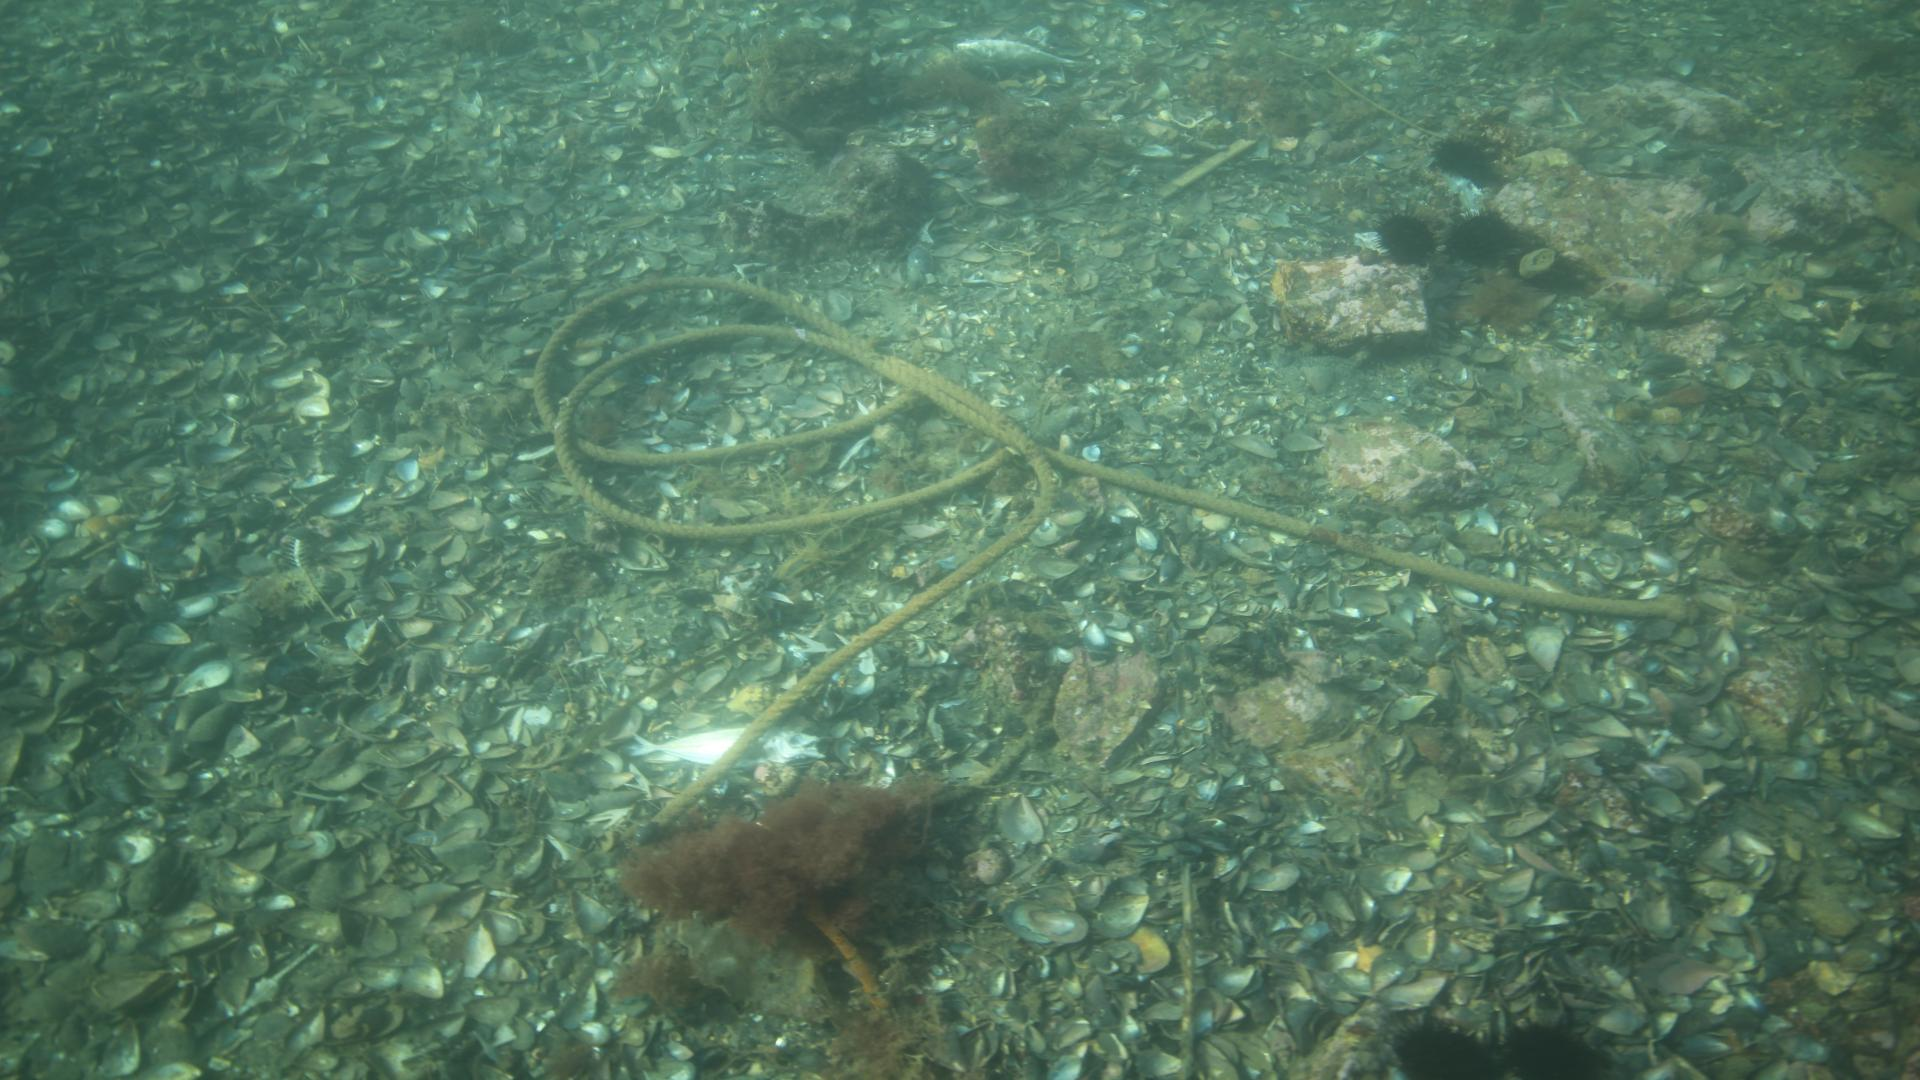bundle of ropes: (527, 266, 1691, 818)
